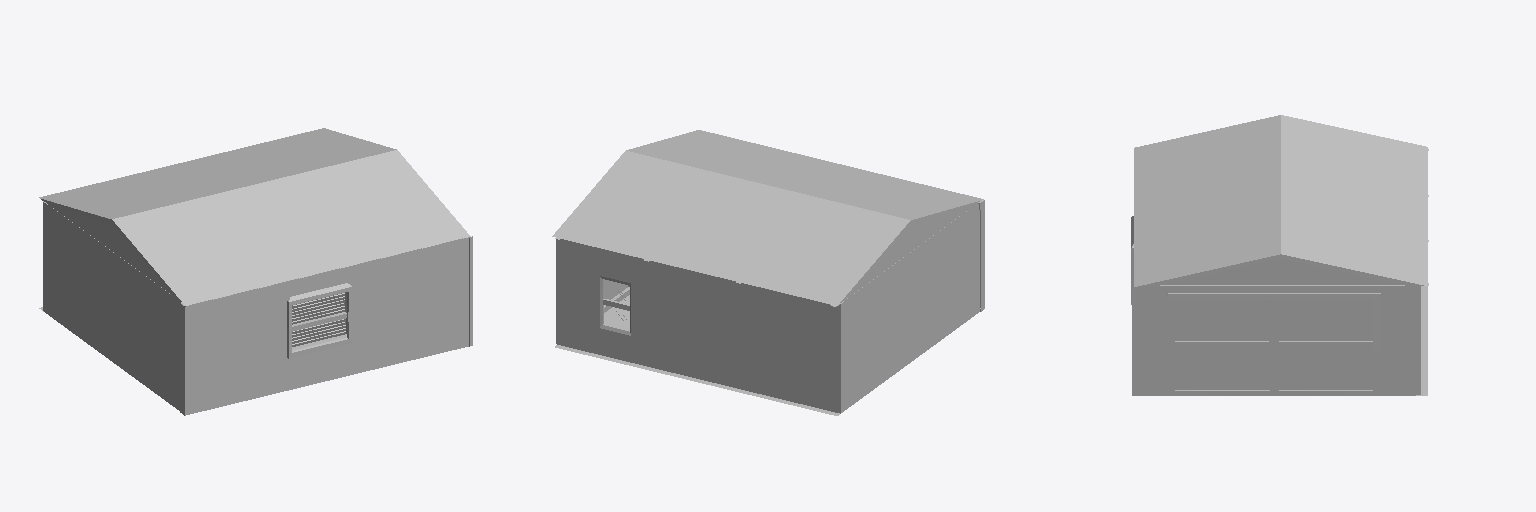
3 renders of one model, left to right at view 1: azimuth 30°, elevation 25°; view 2: azimuth 150°, elevation 25°; view 3: azimuth 270°, elevation 25°, orthographic.
Visible parts, largest first — view 1: Ceiling, Wall, Wood.001; view 2: Wall, Ceiling, Wood, Floor, Wood.001; view 3: Ceiling, Wall, Wood.001, Floor, Wood.
Part boxes in pixels (x1,y1,x2,y2): Ceiling: (39,128,470,305); Wall: (46,205,472,415); Wood.001: (180,238,462,415); Wall: (556,204,979,412); Ceiling: (552,130,982,306); Wood: (560,239,844,413); Floor: (555,295,842,415); Wood.001: (978,199,984,311); Ceiling: (1134,115,1428,286); Wall: (1132,286,1415,395); Wood.001: (1131,216,1387,395); Floor: (1416,286,1427,395); Wood: (1416,286,1420,394).
Bounding box in the file's own units: 9.41 × 4.44 × 8.41.
Materials: 7 (1 with a texture image).